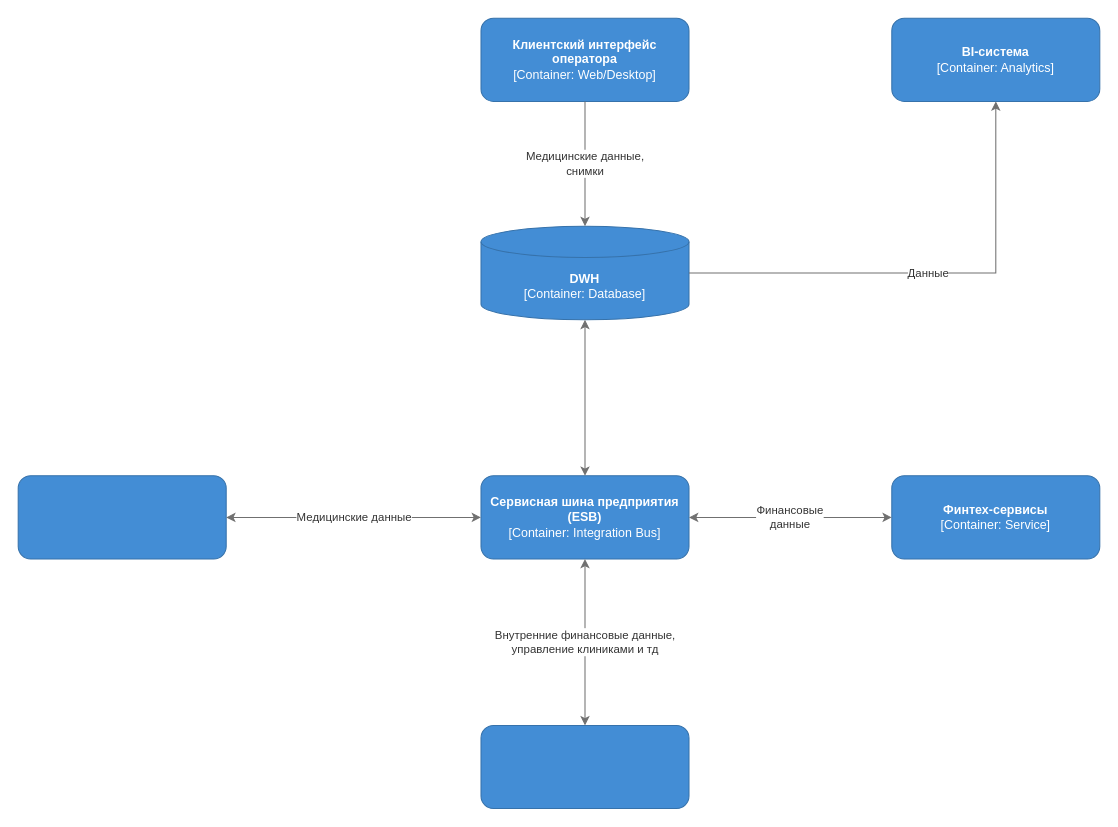
Image size: 1118x827. Some labels were removed from this diagram. Each missing label, with the centre of its shape:
"Внутренние сервисы [Container: Service]" goes at pixel 584 766.
"ИИ-сервисы [Container: Service]" goes at pixel 121 517.
